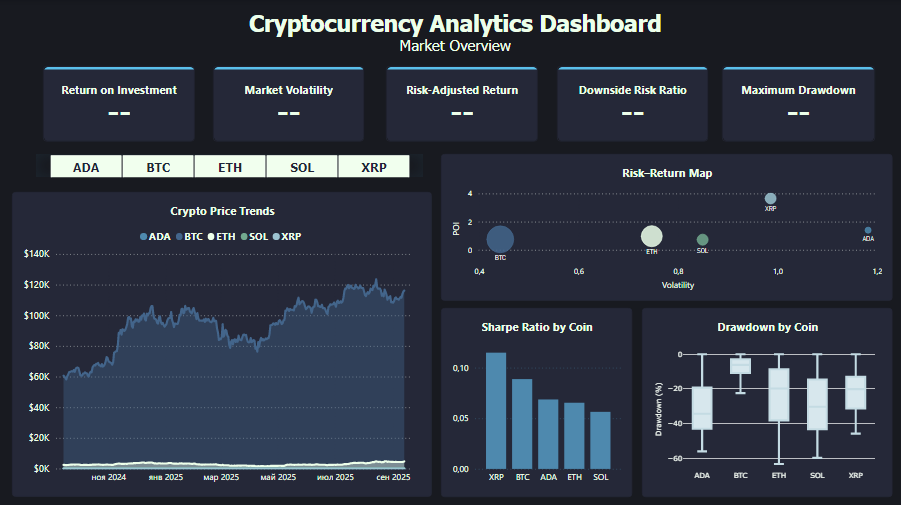

The page's visual inventory and layout, read from the dashboard file:
{"tool":"powerbi","page":{"name":"Market Overview","canvas":[1280,720],"ordinal":0},"visuals":[{"type":"lineChart","title":"Crypto Price Trends","fields":{"Y":["Sum(market_daily.price_usd)"],"Series":["market_daily.symbol"],"Category":["market_daily.date"]},"box":[18.1,272.3,594.8,432.3],"z":0},{"type":"cardVisual","fields":{"Data":["market_daily.ROI %"]},"box":[61.9,94.2,215.5,107.1],"z":1000},{"type":"cardVisual","fields":{"Data":["market_daily.Downside Risk Ratio"]},"box":[791,94.2,214.2,107.1],"z":2000},{"type":"cardVisual","fields":{"Data":["market_daily.Maximum Drawdown"]},"box":[1024.5,94.2,216.8,107.1],"z":3000},{"type":"cardVisual","fields":{"Data":["market_daily.Risk-Adjusted Return"]},"box":[548.4,94.2,215.5,107.1],"z":4000},{"type":"scatterChart","title":"Risk–Return Map","fields":{"X":["market_daily.Volatility %"],"Y":["market_daily.ROI %"],"Size":["market_daily.Avg Volume USD"],"Series":["market_daily.symbol"]},"box":[625.8,218.1,640,207.7],"z":5000},{"type":"columnChart","title":"Sharpe Ratio by Coin","fields":{"Category":["market_daily.symbol"],"Y":["market_daily.Sharpe"]},"box":[625.8,436.1,271,268.4],"z":6000},{"type":"cardVisual","fields":{"Data":["market_daily.Market Volatility"]},"box":[303.2,94.2,214.2,107.1],"z":7000},{"type":"boxandwhiskerwithpoints6C29D629F202A5FF5B6B023486584FCA","title":"Drawdown by Coin","fields":{"col_0":["market_daily.symbol"],"col_3":["market_daily.drawdown_pct"]},"box":[911,436.1,354.8,268.4],"z":8000},{"type":"textbox","box":[52.9,12.9,1188.4,81.3],"z":10000},{"type":"slicer","fields":{"Values":["market_daily.symbol"]},"box":[52.4,218.3,548.5,32.6],"z":11000}]}

Visuals, with their boxes in screenshot pixels (x1, y1, x2, y2), scaled from the page's 1280x720 canvas onto the 901x505 screenshot:
"Crypto Price Trends" lineChart: detection(13, 191, 431, 494)
cardVisual - market_daily.ROI %: detection(44, 66, 195, 141)
cardVisual - market_daily.Downside Risk Ratio: detection(557, 66, 708, 141)
cardVisual - market_daily.Maximum Drawdown: detection(721, 66, 874, 141)
cardVisual - market_daily.Risk-Adjusted Return: detection(386, 66, 538, 141)
"Risk–Return Map" scatterChart: detection(441, 153, 891, 299)
"Sharpe Ratio by Coin" columnChart: detection(441, 306, 631, 494)
cardVisual - market_daily.Market Volatility: detection(213, 66, 364, 141)
"Drawdown by Coin" boxandwhiskerwithpoints6C29D629F202A5FF5B6B023486584FCA: detection(641, 306, 891, 494)
textbox: detection(37, 9, 874, 66)
slicer - market_daily.symbol: detection(37, 153, 423, 176)
